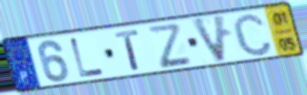6: (36, 38, 71, 84)
C: (230, 11, 275, 58)
L: (68, 36, 107, 79)
T: (113, 28, 142, 71)
V: (189, 13, 229, 65)
Z: (145, 22, 194, 70)
